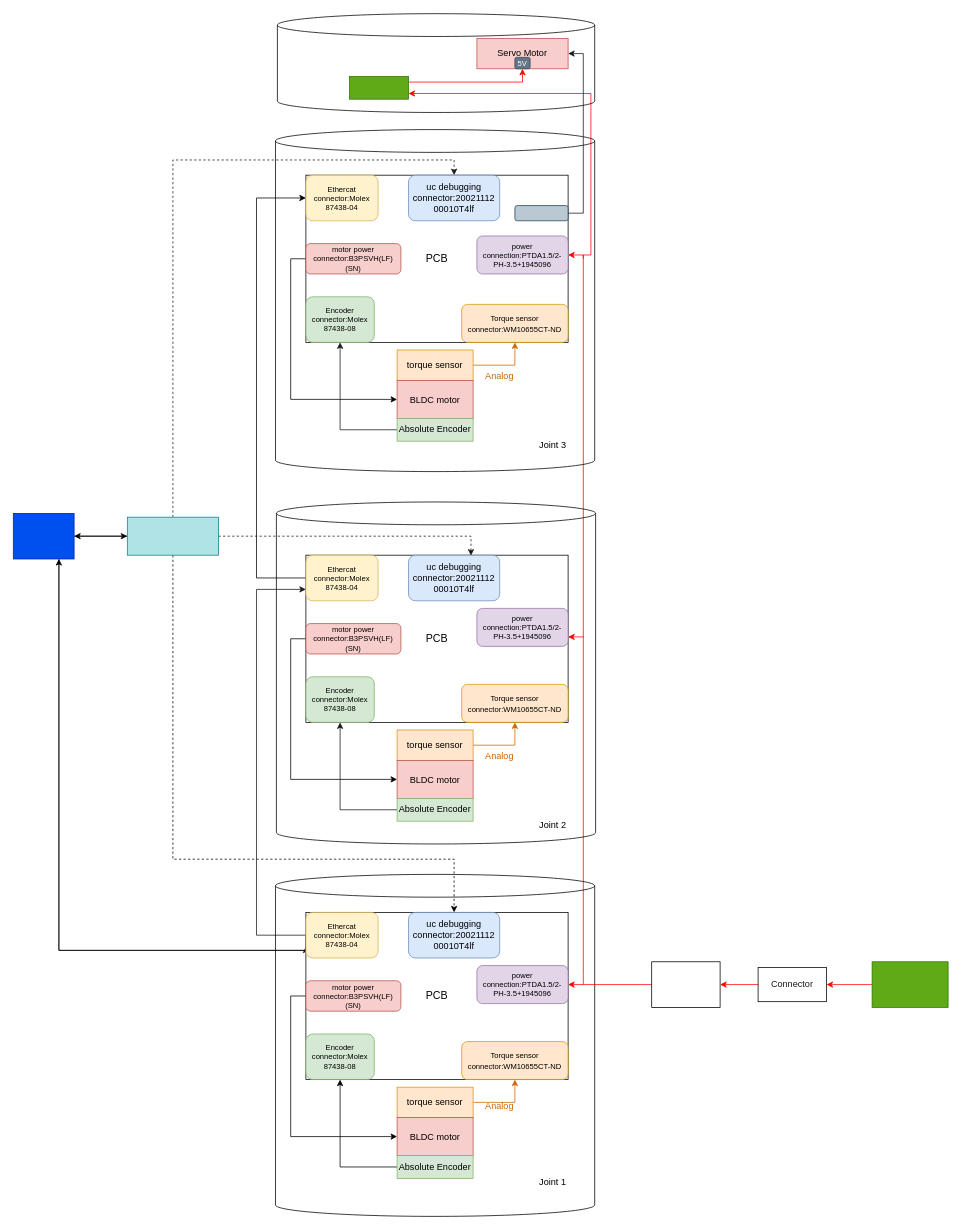
This 961x1230 diagram has some shape labels left out. Here are the shapes that lost their labels. From the top down, the centre of each, then its label:
point (378, 87): Buck converter
point (541, 213): digital PIN
point (43, 536): PC
point (172, 535): SWD Programming
point (685, 984): Emergency Button
point (909, 984): power supply
